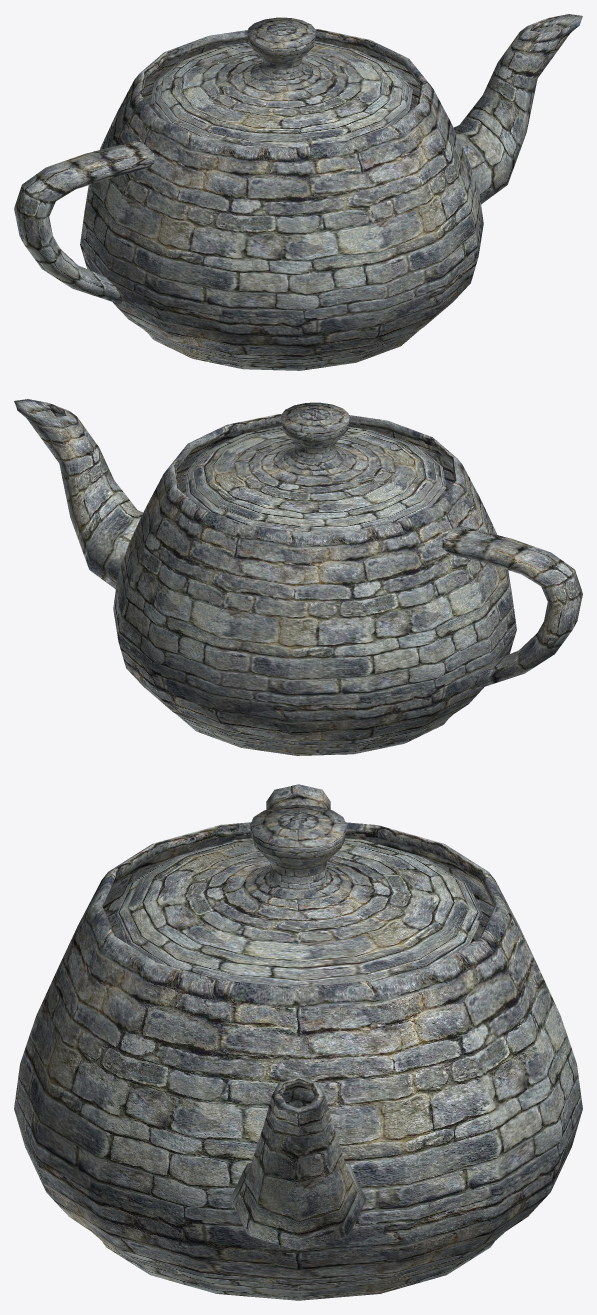
Rendered from teapot.obj.
3 views of the same model, one above another, from view 1: azimuth 30°, elevation 25°; view 2: azimuth 150°, elevation 25°; view 3: azimuth 270°, elevation 25° (orthographic). The views are drawn at different scales.
Visible parts, largest first — view 1: Teapot01; view 2: Teapot01; view 3: Teapot01.
Part boxes in pixels (x1,y1,x2,y2): Teapot01: [14, 14, 582, 370]; Teapot01: [14, 399, 582, 755]; Teapot01: [14, 784, 582, 1300].
Size of the model in its own units: 32.14 by 15.75 by 20.
Materials: 1 (1 with a texture image).
